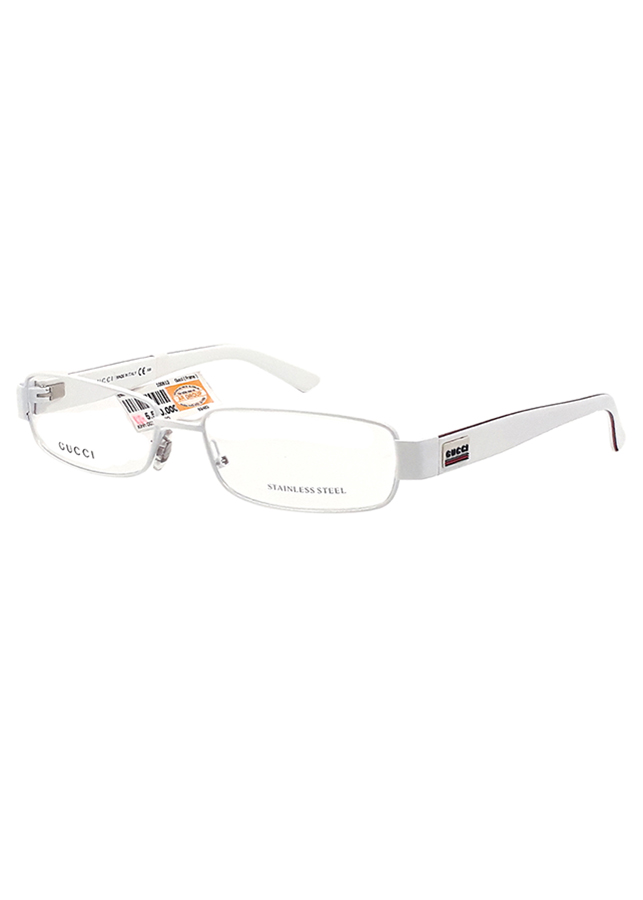Gucci: (439, 431, 482, 475), (49, 436, 103, 463)
